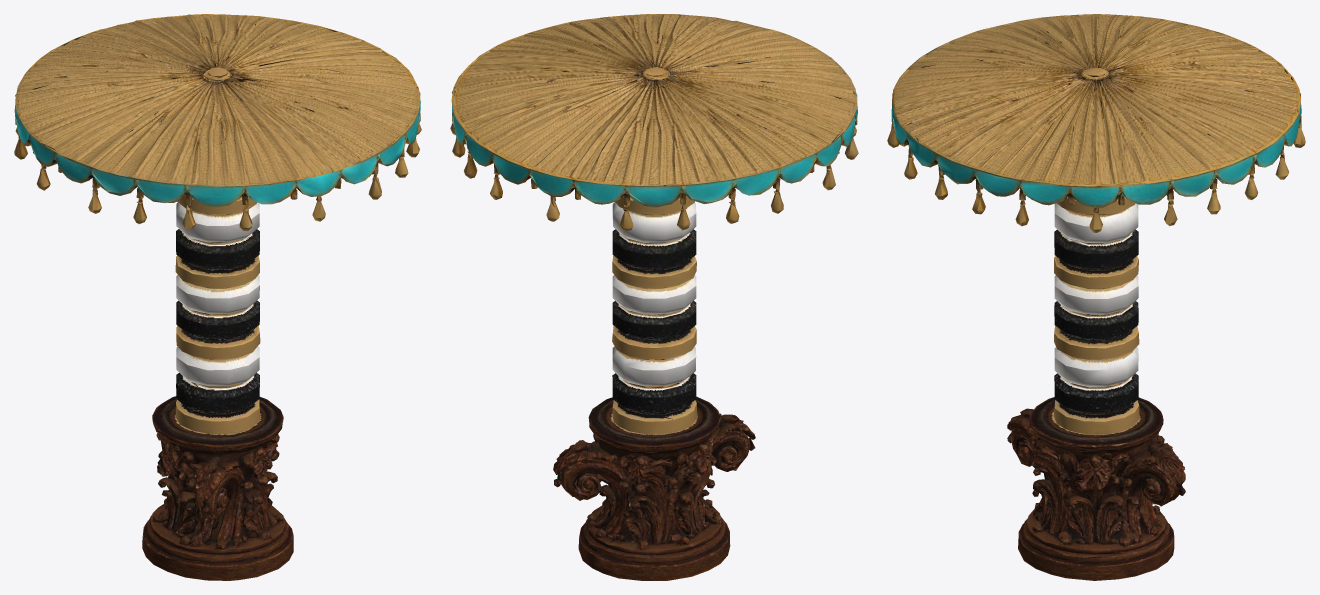
File: TH-01_bedside_table_game.glb
3 views of the same model, side by side, from view 1: azimuth 30°, elevation 25°; view 2: azimuth 150°, elevation 25°; view 3: azimuth 270°, elevation 25° (orthographic).
Parts seen in each view (by area): view 1: TH-01_bedside_table; view 2: TH-01_bedside_table; view 3: TH-01_bedside_table.
Part boxes in pixels (x1,y1,x2,y2): TH-01_bedside_table: (14, 14, 421, 580); TH-01_bedside_table: (450, 14, 858, 580); TH-01_bedside_table: (887, 14, 1305, 580).
Bounding box in the file's own units: 0.4879 × 0.62 × 0.4903.
Materials: 1 (1 with a texture image).
